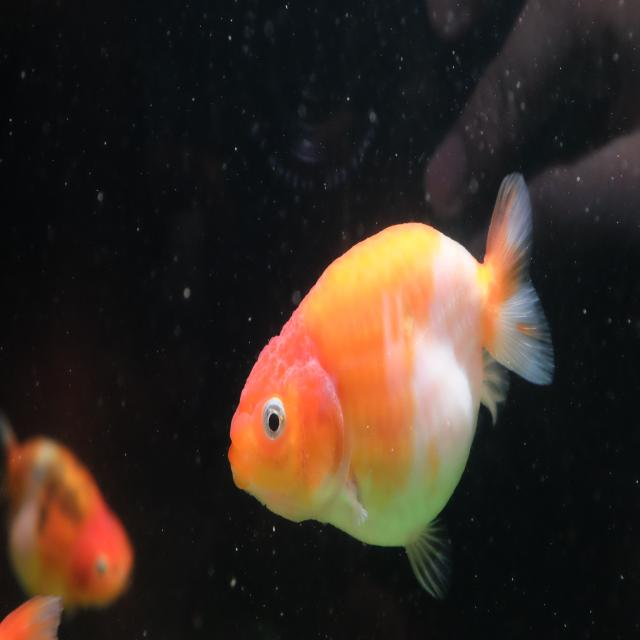Goldfish: (226, 167, 557, 601), (0, 421, 137, 615)
